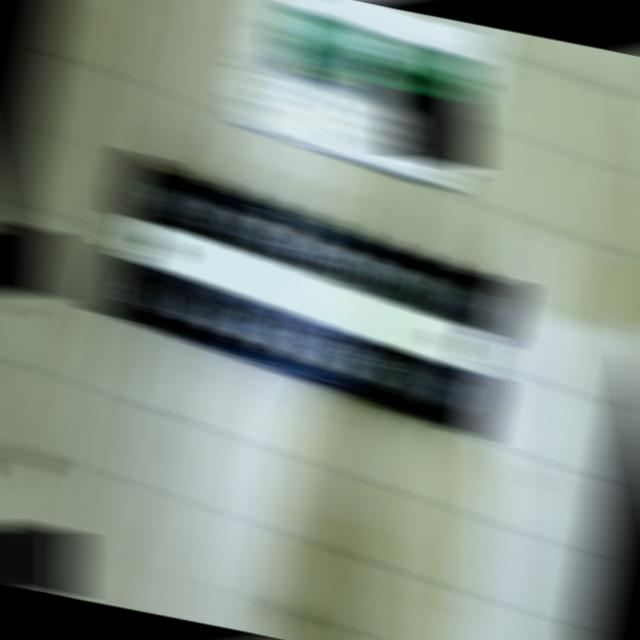Flathead_Block: (79, 152, 532, 438)
Terminal_1: (272, 2, 378, 81), (375, 34, 479, 107)
